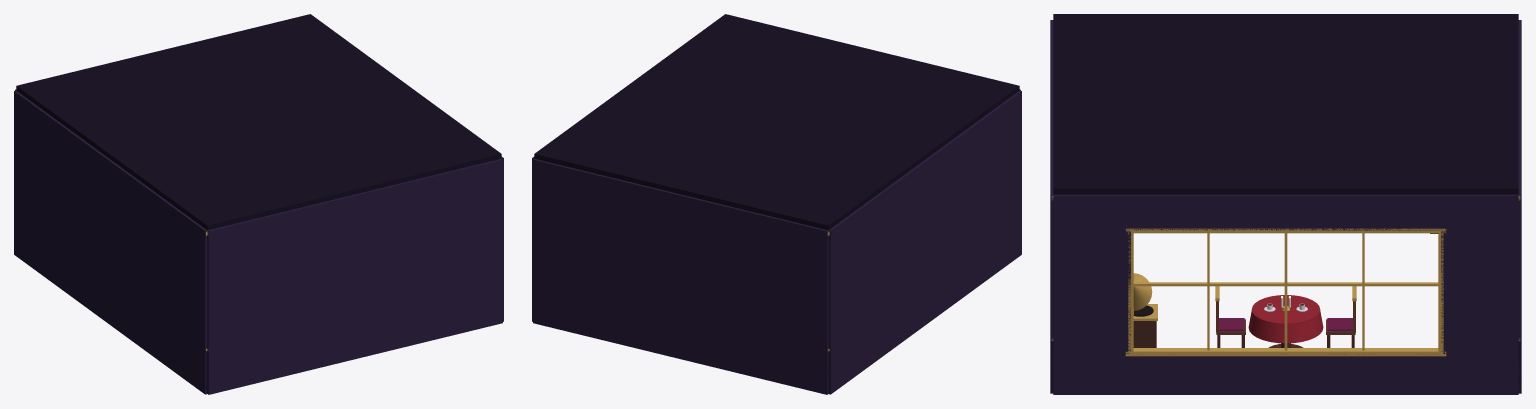
Rendered from meta-room.glb.
3 renders of one model, left to right at view 1: azimuth 30°, elevation 25°; view 2: azimuth 150°, elevation 25°; view 3: azimuth 270°, elevation 25°, orthographic. The views are drawn at different scales.
Visible parts, largest first — view 1: 18_#2a1c3e, 20_#140c20; view 2: 18_#2a1c3e, 20_#140c20; view 3: 20_#140c20, 18_#2a1c3e, 19_#2a1c3e_r320, 15_#c8a050, 08_#9a2030_r320, 17_#c8a050_r320, 01_#c8a050_r110, 00_#4a2a22_r110, 11_#6e1a48_r110, 04_#6a3c2a_r110.
Part boxes in pixels (x1=…): 18_#2a1c3e: x1=14, y1=89, x2=503, y2=394; 20_#140c20: x1=16, y1=14, x2=501, y2=230; 18_#2a1c3e: x1=532, y1=89, x2=1021, y2=394; 20_#140c20: x1=534, y1=14, x2=1019, y2=230; 20_#140c20: x1=1053, y1=14, x2=1518, y2=194; 18_#2a1c3e: x1=1050, y1=20, x2=1521, y2=394; 19_#2a1c3e_r320: x1=1053, y1=231, x2=1518, y2=353; 15_#c8a050: x1=1051, y1=195, x2=1520, y2=356; 08_#9a2030_r320: x1=1248, y1=295, x2=1323, y2=343; 17_#c8a050_r320: x1=1128, y1=229, x2=1443, y2=356; 01_#c8a050_r110: x1=1133, y1=273, x2=1356, y2=320; 00_#4a2a22_r110: x1=1133, y1=321, x2=1354, y2=347; 11_#6e1a48_r110: x1=1219, y1=318, x2=1352, y2=331; 04_#6a3c2a_r110: x1=1216, y1=233, x2=1438, y2=334.
Size of the model in its own units: 6.5 by 3.5 by 7.3.
